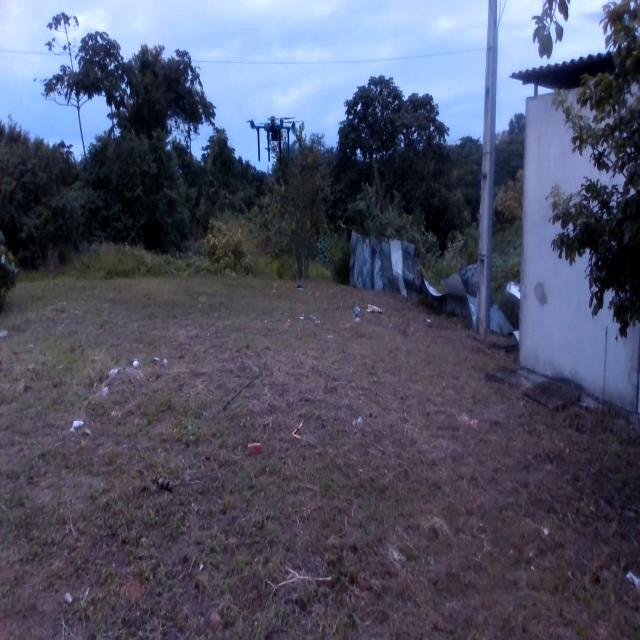-uav-: (240, 105, 301, 173)
